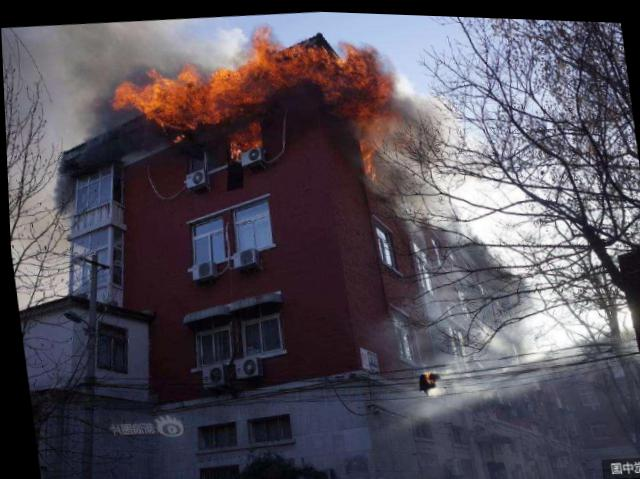fire: (347, 45, 394, 144), (166, 72, 220, 125), (270, 39, 327, 83), (213, 61, 261, 105), (251, 30, 277, 88), (138, 74, 169, 118), (229, 120, 264, 149), (324, 58, 352, 94), (113, 81, 142, 108), (360, 142, 376, 175)
